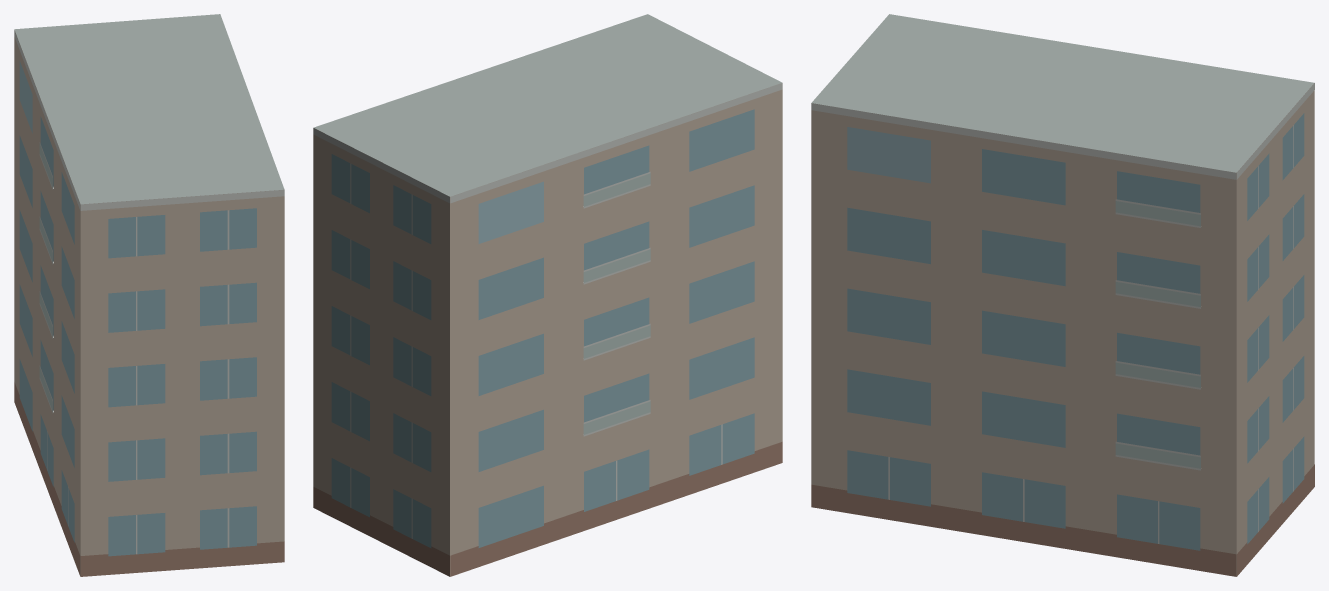
File: survey-upis-32891752.glb
The picture shows the model from 3 angles, left to right: view 1: azimuth 30°, elevation 25°; view 2: azimuth 150°, elevation 25°; view 3: azimuth 270°, elevation 25°; orthographic projection. The views are drawn at different scales.
Parts seen in each view (by area): view 1: survey-upis-32891752.tmp; view 2: survey-upis-32891752.tmp; view 3: survey-upis-32891752.tmp.
Part boxes in pixels (<box>): survey-upis-32891752.tmp: <box>14,14,284,576</box>; survey-upis-32891752.tmp: <box>313,14,782,576</box>; survey-upis-32891752.tmp: <box>811,14,1314,576</box>.
Size of the model in its own units: 11.68 by 13.85 by 15.65.
